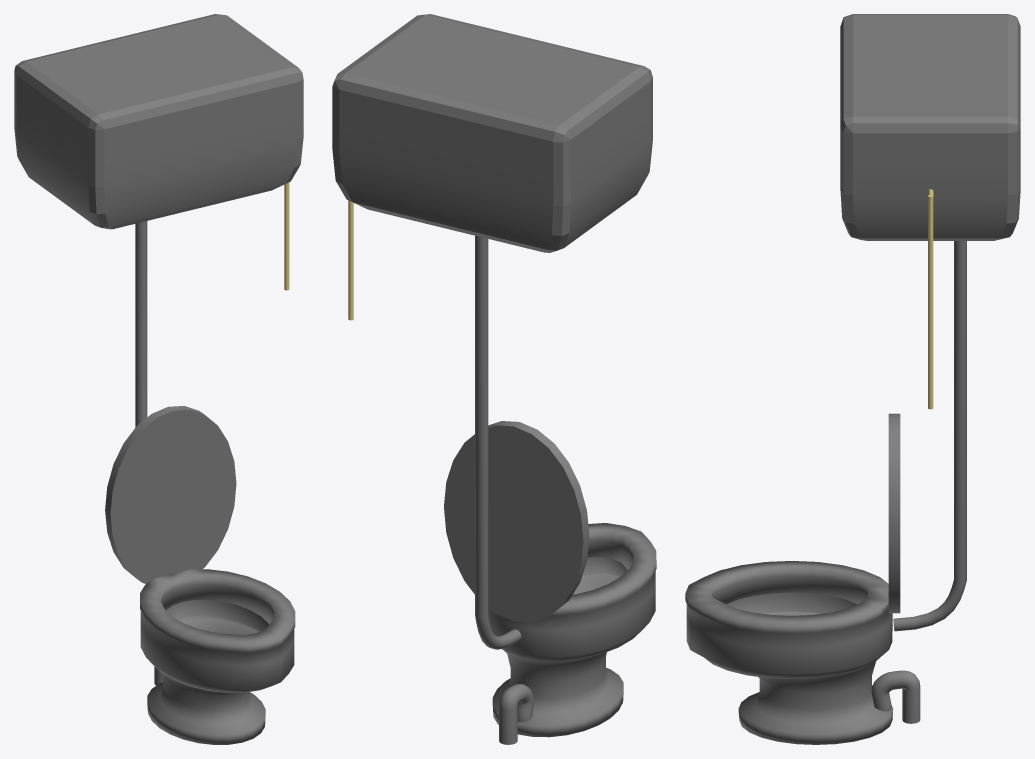
Rendered from vater.FBX.
The picture shows the model from 3 angles, left to right: view 1: azimuth 30°, elevation 25°; view 2: azimuth 150°, elevation 25°; view 3: azimuth 270°, elevation 25°; orthographic projection. The views are drawn at different scales.
Parts seen in each view (by area): view 1: vater; view 2: vater; view 3: vater.
Part boxes in pixels (x1,y1,x2,y2): vater: (14,14,303,744); vater: (332,14,656,744); vater: (685,14,1020,744).
Bounding box in the file's own units: 192 × 220 × 475.
